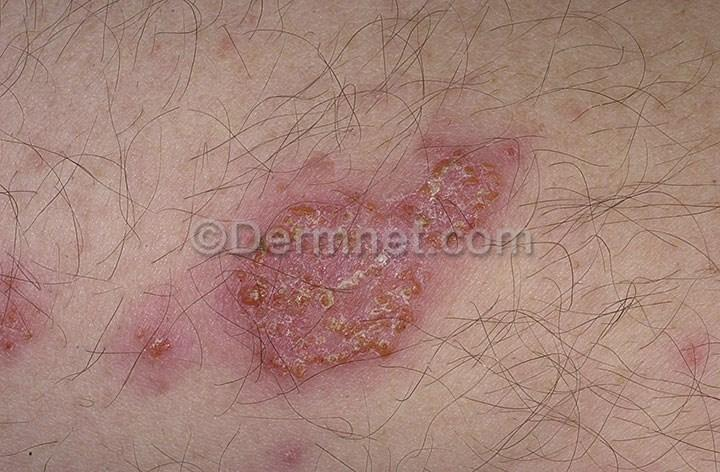Eczema: (181, 118, 554, 413), (0, 218, 94, 380), (98, 272, 178, 398), (668, 295, 720, 406), (251, 424, 342, 472)
